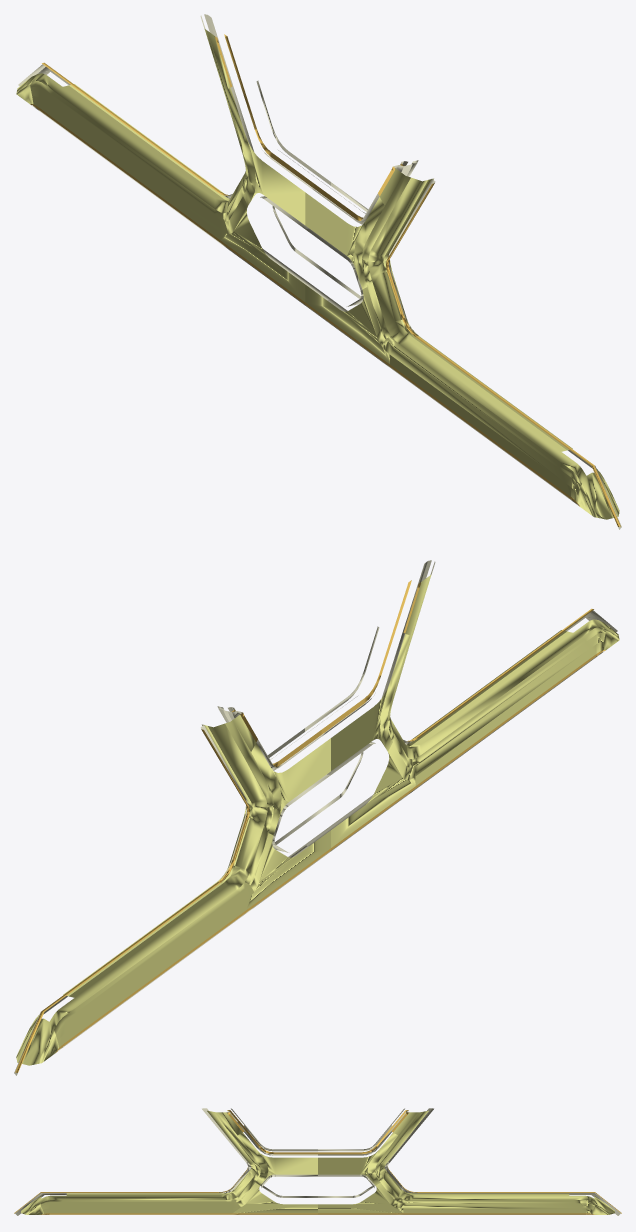
File: ind_support_pillar_f_lod3.glb
3 renders of one model, top to bottom at view 1: azimuth 30°, elevation 25°; view 2: azimuth 150°, elevation 25°; view 3: azimuth 270°, elevation 25°, orthographic. The views are drawn at different scales.
Size of the model in its own units: 1 by 7.97 by 40.7.
